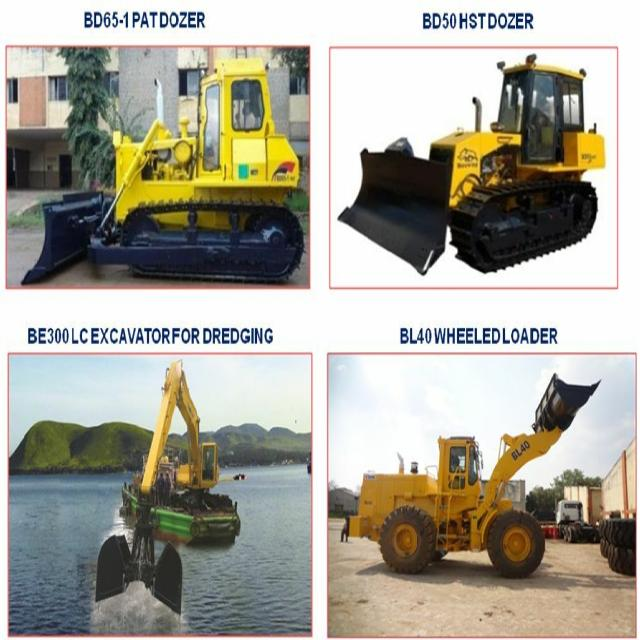buldozerpayloadergrader: (26, 53, 308, 279), (340, 56, 608, 272), (346, 364, 600, 580)
